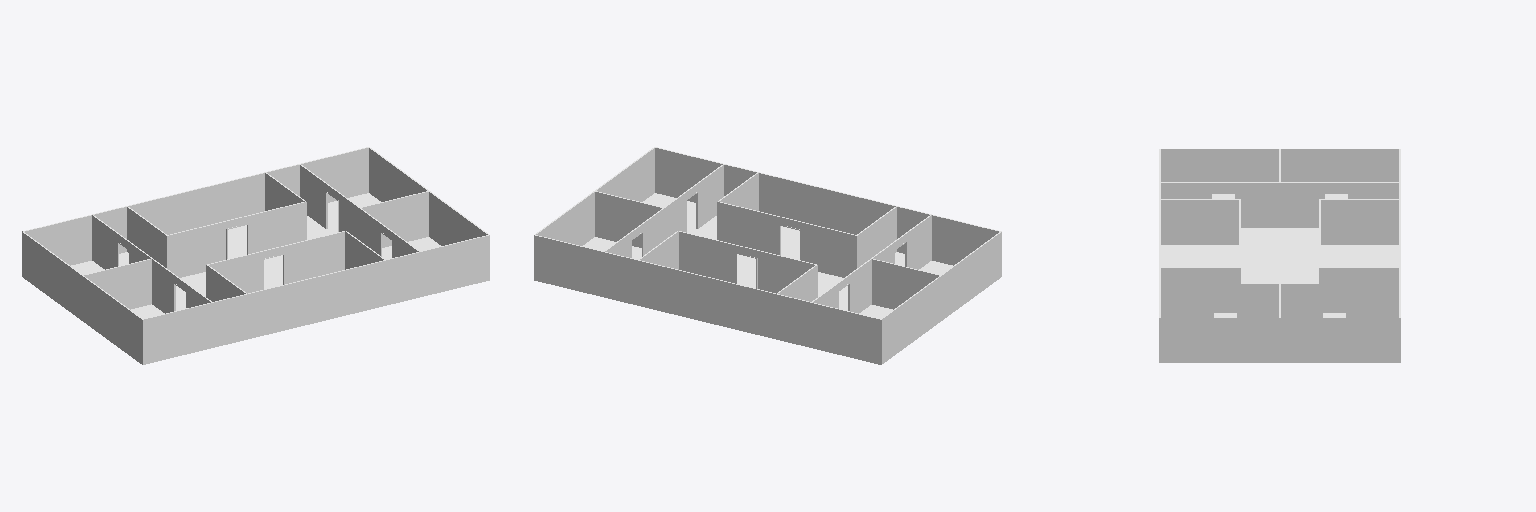
Rendered from aloof_env.obj.
3 views of the same model, side by side, from view 1: azimuth 30°, elevation 25°; view 2: azimuth 150°, elevation 25°; view 3: azimuth 270°, elevation 25° (orthographic).
Visible parts, largest first — view 1: wall_2_12, wall_4_21, wall_1_6, wall_8_48, wall_11_66, room_1_92, wall_3_15, wall_6_36, wall_5_30, wall_13_75, wall_14_84, wall_7_42 (+3 smaller); view 2: wall_4_24, wall_2_9, wall_1_6, wall_11_63, wall_8_45, room_1_92, wall_3_15, wall_6_36, wall_5_30, wall_13_78, wall_14_81, wall_10_57 (+3 smaller); view 3: wall_3_18, room_1_92, wall_1_3, wall_6_33, wall_5_27, wall_7_39, wall_10_60, wall_9_54, wall_12_69.
Boxes of the visible parts, x1,y1,x2,y2 form: wall_2_12: [143, 235, 489, 364]; wall_4_21: [25, 148, 368, 265]; wall_1_6: [22, 232, 142, 364]; wall_8_48: [167, 202, 306, 277]; wall_11_66: [209, 232, 344, 293]; room_1_92: [71, 193, 440, 318]; wall_3_15: [369, 148, 487, 245]; wall_6_36: [300, 165, 418, 257]; wall_5_30: [92, 215, 210, 313]; wall_13_75: [362, 192, 428, 247]; wall_14_84: [84, 259, 151, 309]; wall_7_42: [127, 207, 166, 267]; wall_4_24: [534, 235, 880, 364]; wall_2_9: [655, 148, 998, 265]; wall_1_6: [881, 232, 1001, 364]; wall_11_63: [717, 202, 856, 277]; wall_8_45: [679, 232, 814, 293]; room_1_92: [583, 193, 952, 318]; wall_3_15: [536, 148, 654, 245]; wall_6_36: [605, 165, 723, 257]; wall_5_30: [813, 215, 931, 313]; wall_13_78: [595, 192, 661, 247]; wall_14_81: [872, 259, 938, 309]; wall_10_57: [857, 207, 896, 267]; wall_3_18: [1159, 318, 1400, 362]; room_1_92: [1161, 194, 1398, 317]; wall_1_3: [1161, 149, 1398, 193]; wall_6_33: [1161, 284, 1398, 317]; wall_5_27: [1161, 183, 1398, 227]; wall_7_39: [1321, 200, 1398, 244]; wall_10_60: [1161, 200, 1238, 244]; wall_9_54: [1319, 268, 1398, 312]; wall_12_69: [1161, 268, 1240, 312].
Size of the model in its own units: 2008 by 250 by 1208.